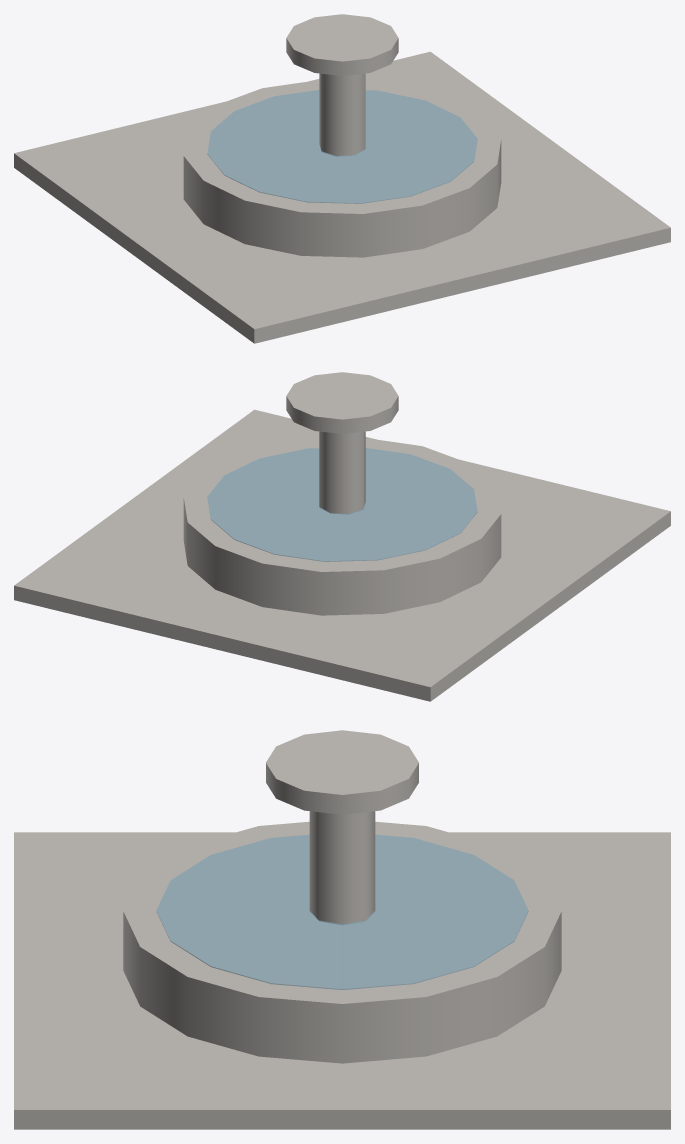
File: water_fountain.glb
3 views of the same model, one above another, from view 1: azimuth 30°, elevation 25°; view 2: azimuth 150°, elevation 25°; view 3: azimuth 270°, elevation 25° (orthographic). The views are drawn at different scales.
Visible parts, largest first — view 1: base, basin_outer, basin_inner, top_basin, pillar; view 2: base, basin_outer, basin_inner, top_basin, pillar; view 3: base, basin_outer, basin_inner, top_basin, pillar.
Part boxes in pixels (box(x1,y1,x2,y2)): base: box(14, 51, 670, 343); basin_outer: box(183, 80, 501, 257); basin_inner: box(207, 90, 477, 203); top_basin: box(286, 14, 398, 75); pillar: box(319, 73, 365, 156); base: box(14, 409, 670, 701); basin_outer: box(183, 438, 501, 615); basin_inner: box(207, 448, 477, 561); top_basin: box(286, 372, 398, 433); pillar: box(319, 431, 365, 514); base: box(14, 832, 670, 1129); basin_outer: box(123, 821, 561, 1063); basin_inner: box(156, 834, 528, 989); top_basin: box(266, 730, 418, 814); pillar: box(309, 811, 375, 924).
Size of the model in its own units: 3 by 1.15 by 3.
